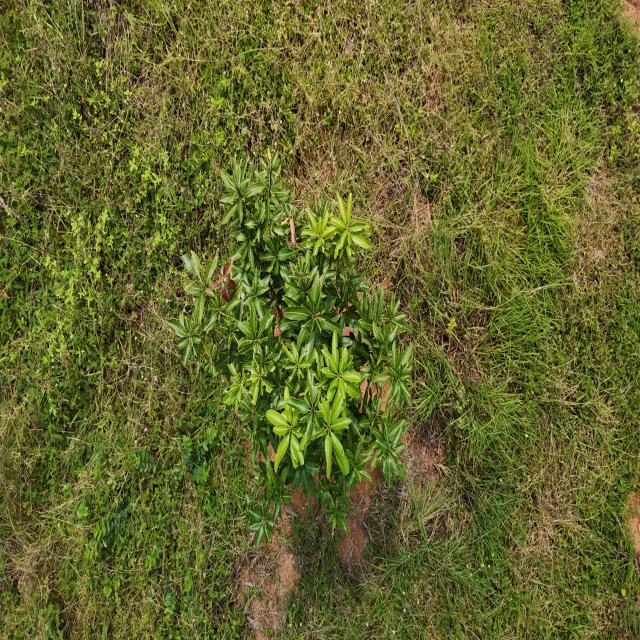mangoTree: (164, 147, 418, 551)
